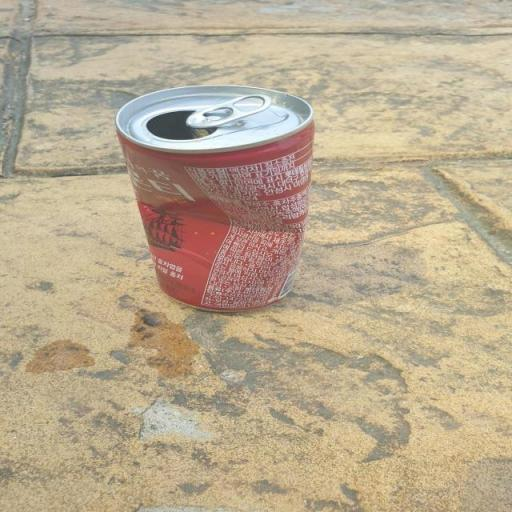metal: (94, 39, 376, 346)
